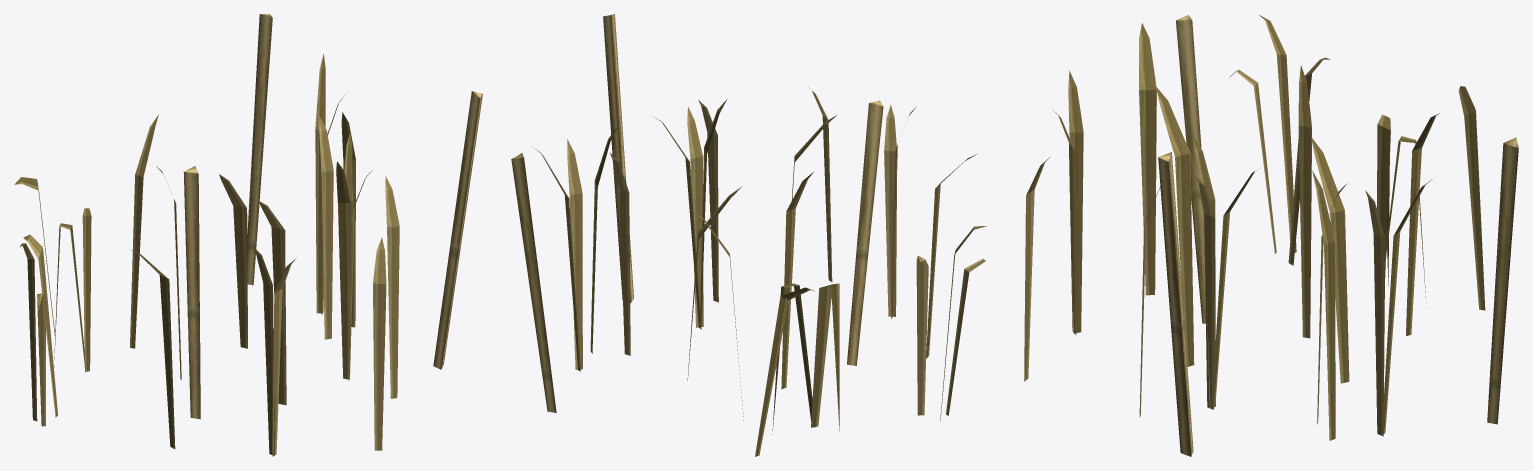
Rendered from C3SMBAMBOREEDSH.obj.
3 renders of one model, left to right at view 1: azimuth 30°, elevation 25°; view 2: azimuth 150°, elevation 25°; view 3: azimuth 270°, elevation 25°, orthographic. The views are drawn at different scales.
Parts seen in each view (by area): view 1: Node 0; view 2: Node 0; view 3: Node 0.
Part boxes in pixels (x1=…): Node 0: x1=14, y1=14, x2=482, y2=456; Node 0: x1=511, y1=14, x2=986, y2=456; Node 0: x1=1024, y1=14, x2=1518, y2=456.
Size of the model in its own units: 9.09 by 5.62 by 7.97.
2 materials, 2 textured.
